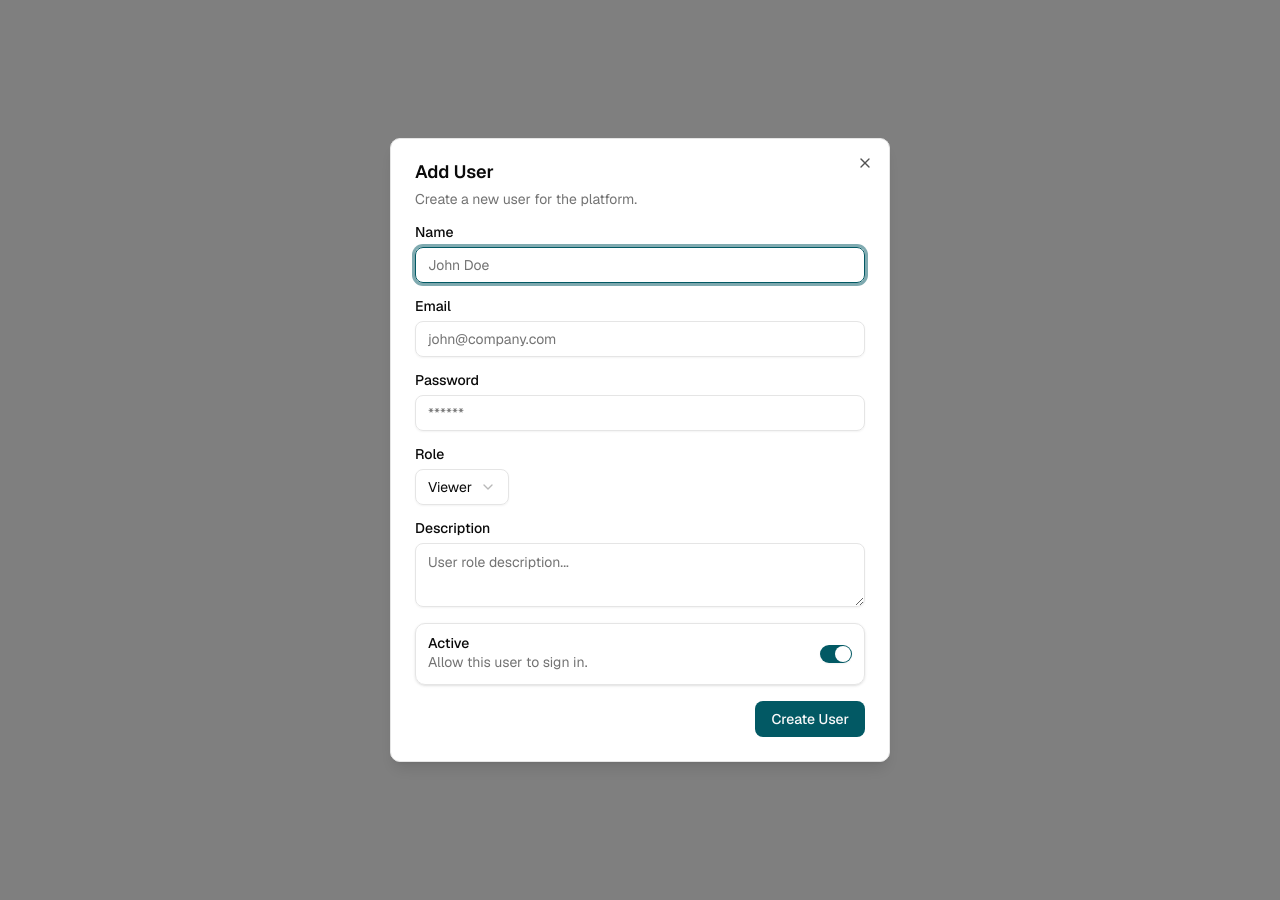
Test case: UserForm › validates form submission
Click the button "Create User".
click(810, 719)  # box [755,701,865,737]
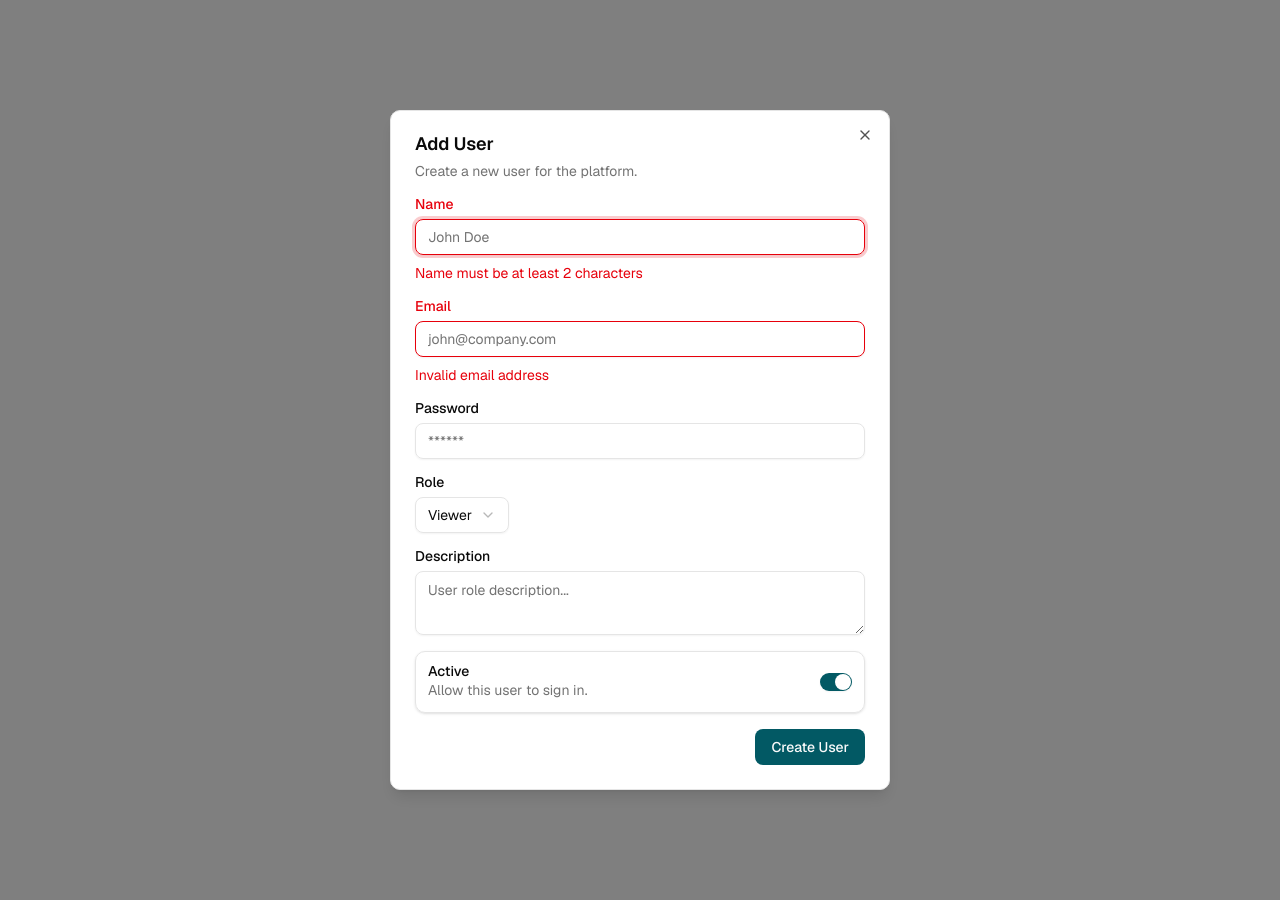
Expected: the text "Name must be at least 2 characters" is shown, [415,264,643,282]
